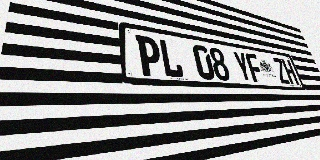0: (191, 44, 216, 80)
8: (208, 47, 231, 81)
F: (244, 53, 265, 83)
H: (281, 59, 299, 84)
L: (158, 38, 185, 78)
P: (135, 35, 163, 77)
Y: (232, 51, 253, 82)
Z: (272, 57, 291, 84)
